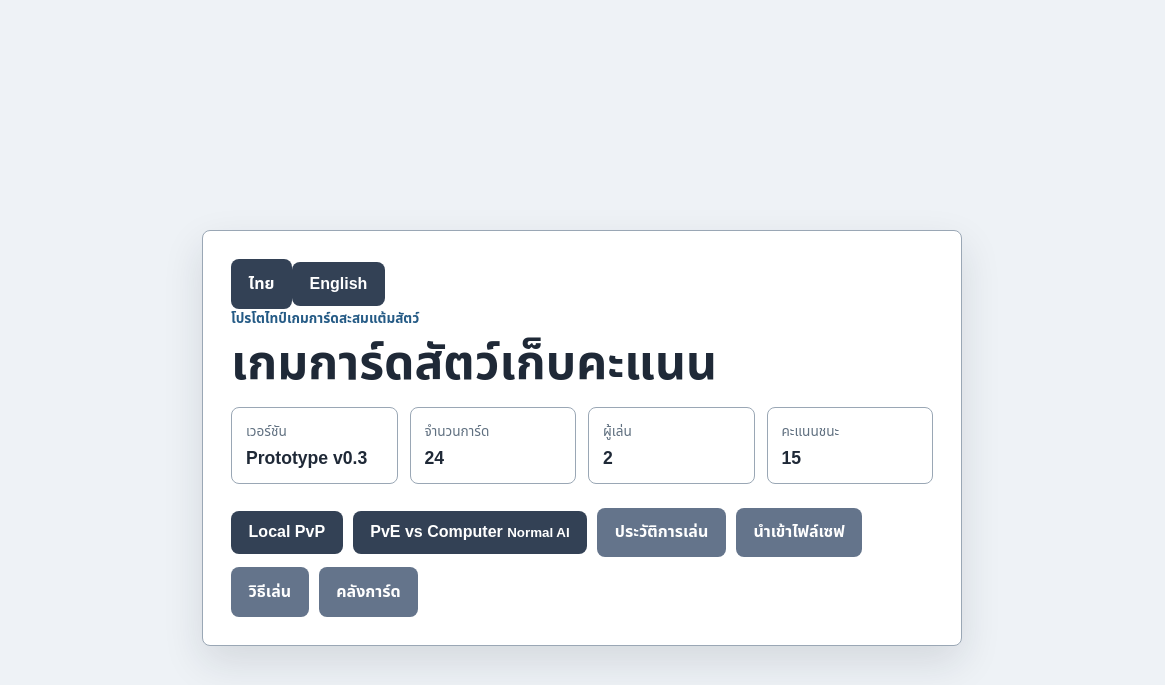
App Phase 2C-1C-A player hand card localization › keeps Card Library localization working
The width and height of the screenshot is (1165, 685).
Click the button "คลังการ์ด": (368, 592) [319,567,418,617]
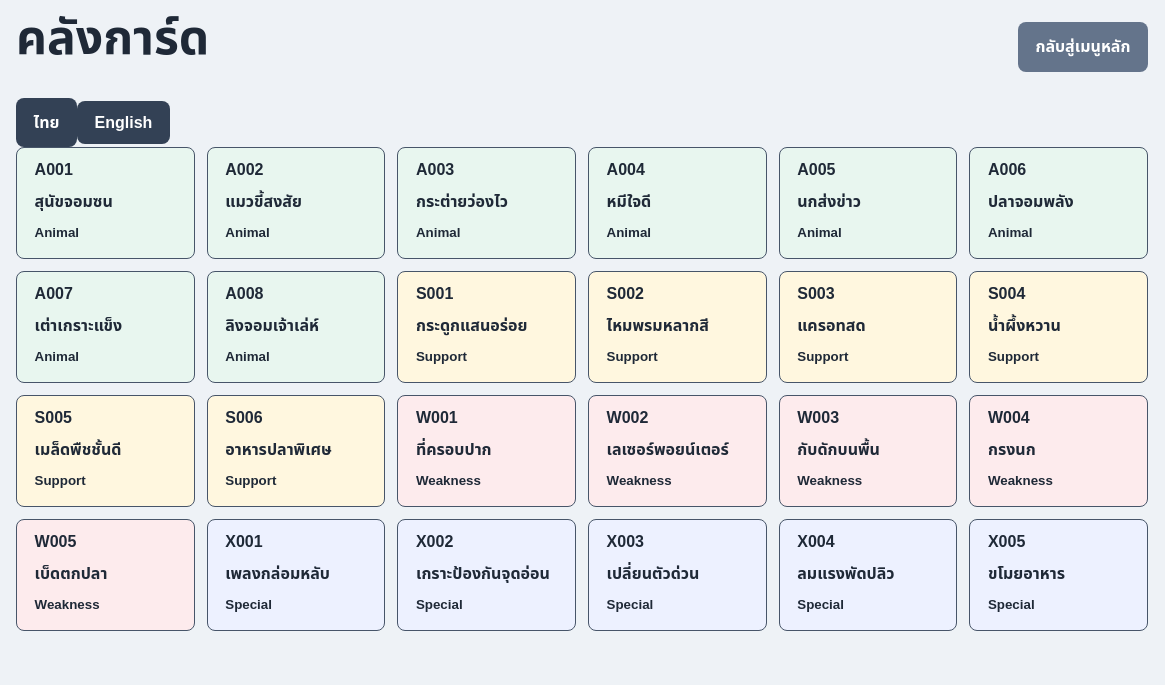
Expected: the text "สุนัขจอมซน" is shown, [35,193,113,210]
Click the button "English": (124, 123) [77,101,170,144]
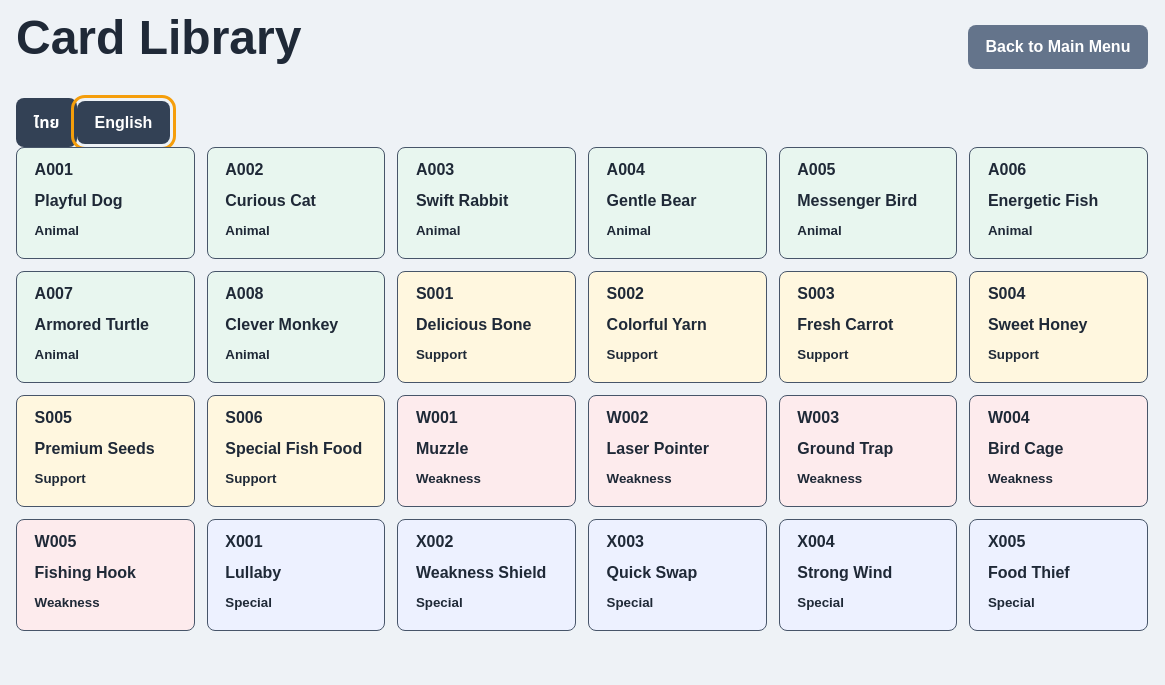
Expected: the text "Playful Dog" is shown, [35,192,123,209]
